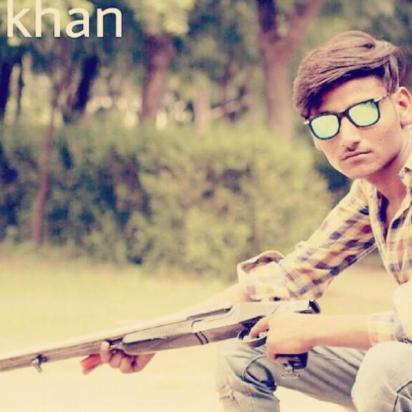Gun: (0, 295, 324, 383)
